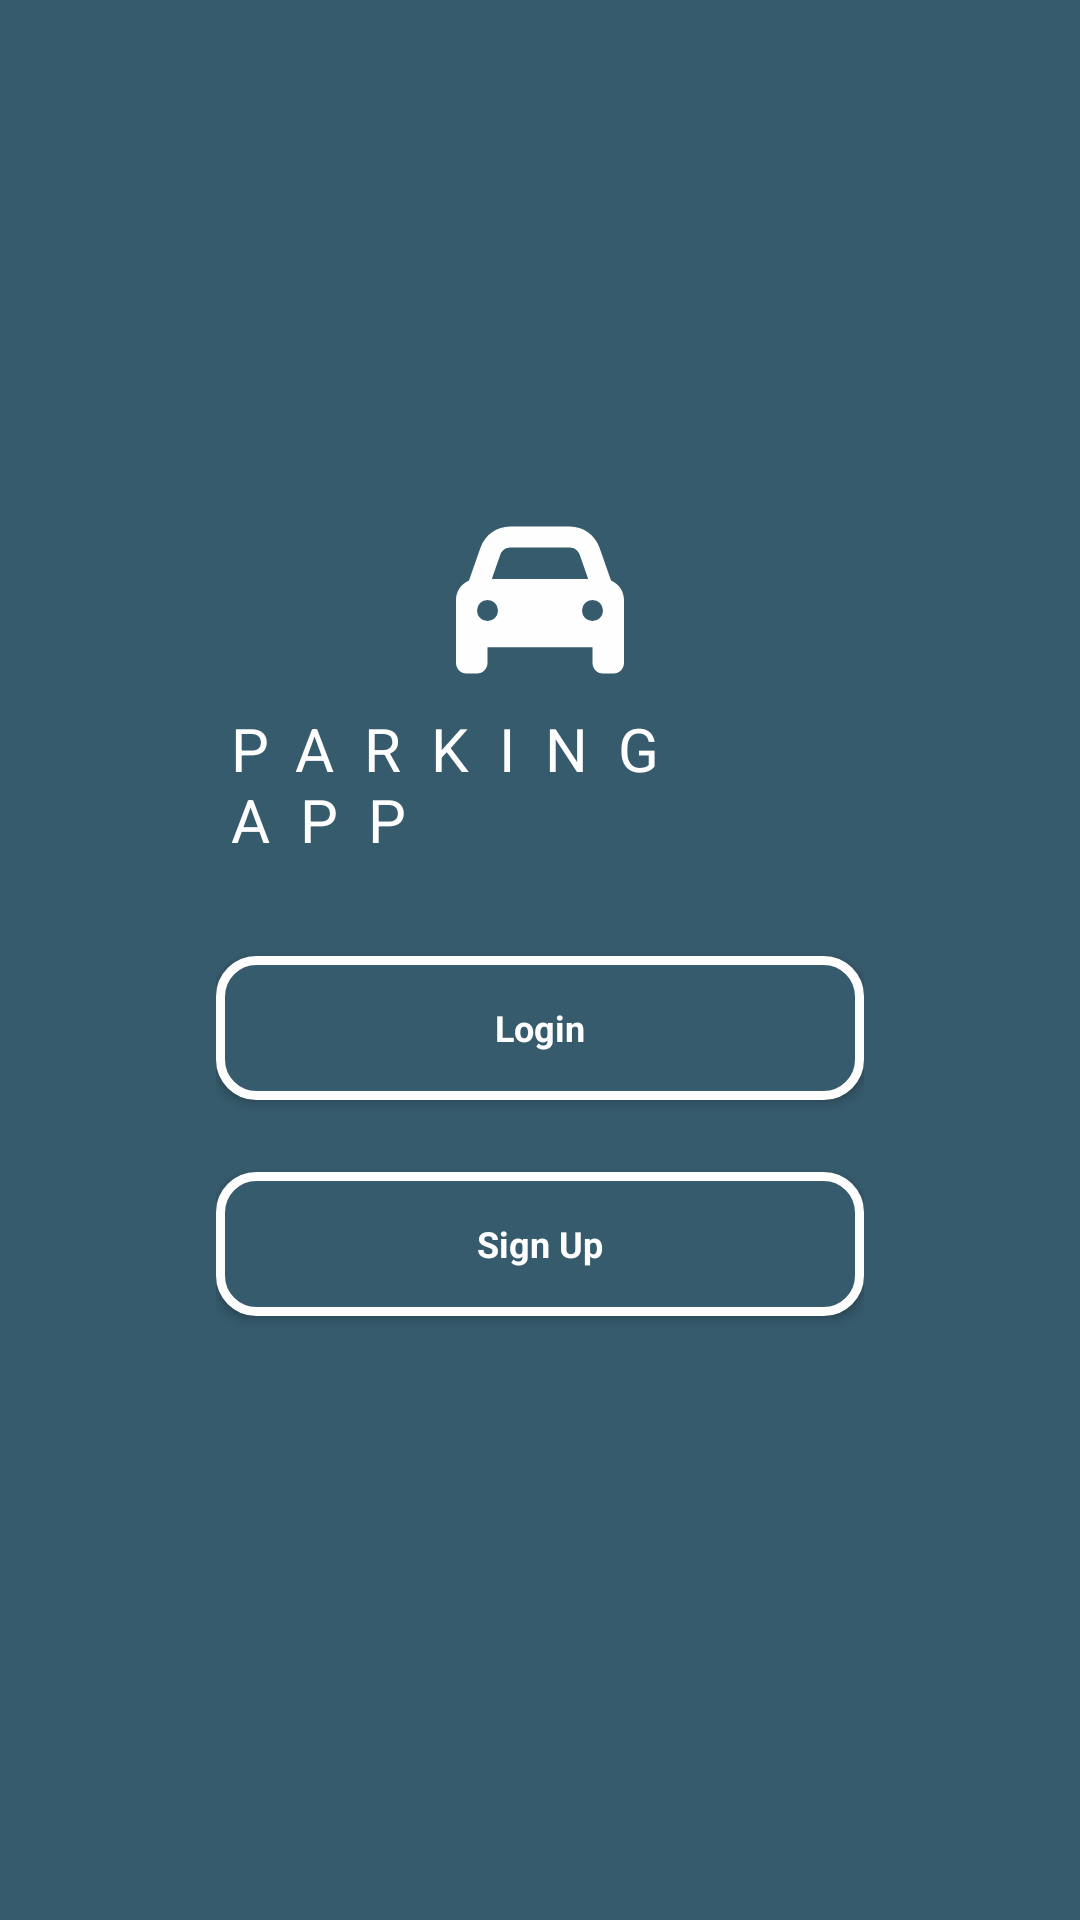

Screen size 1080*1920. Icon name, then its box in pixels as region(x1, y1, x2, y2):
car: region(456, 526, 624, 674)
